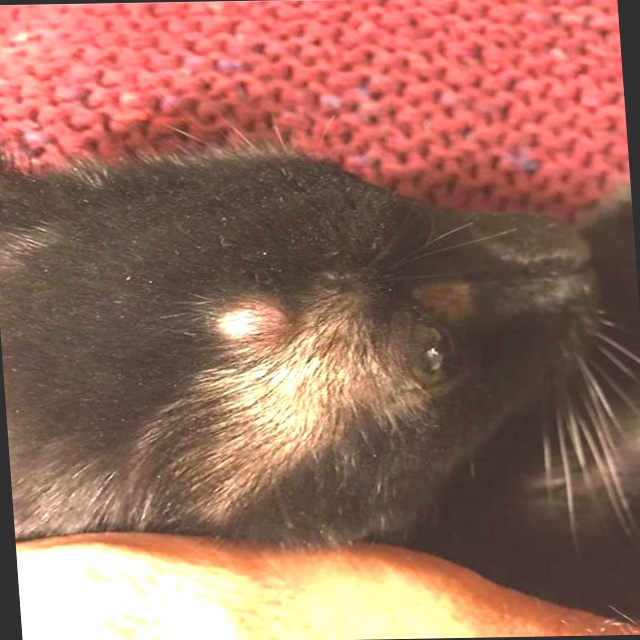lump_and_bump: (223, 299, 271, 346)
